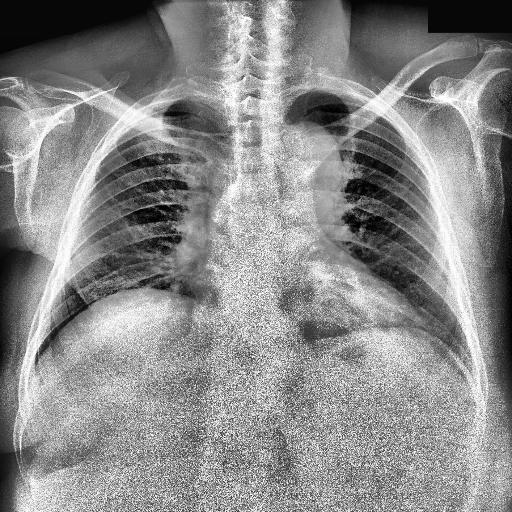0- Aortic enlargement: (270, 120, 346, 203), (272, 118, 346, 196), (271, 119, 343, 191)
